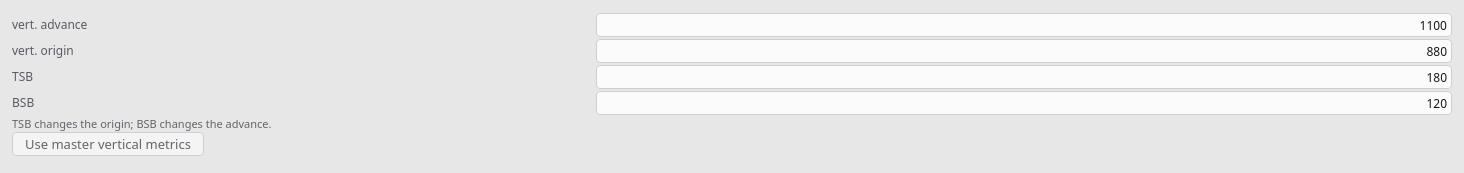
vertical metrics inspector › rejects invalid numeric input without applying a command
The width and height of the screenshot is (1464, 173).
Replace the text in the field labelled "TSB" with "oops" at (1024, 77), box [596,65,1452,89]
Then press Enter
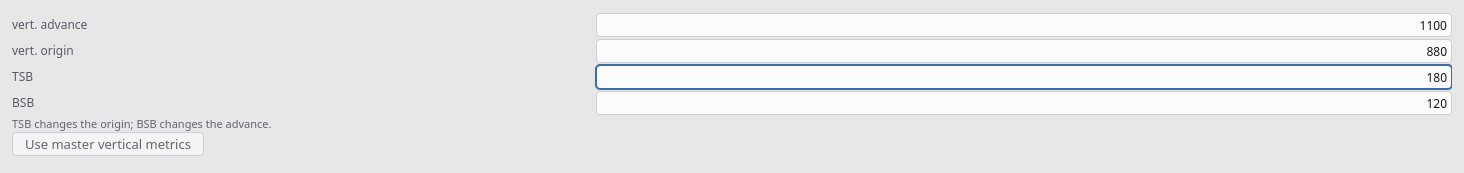
Result: the field labelled "TSB" holds "180" at [596,65,1452,89]
